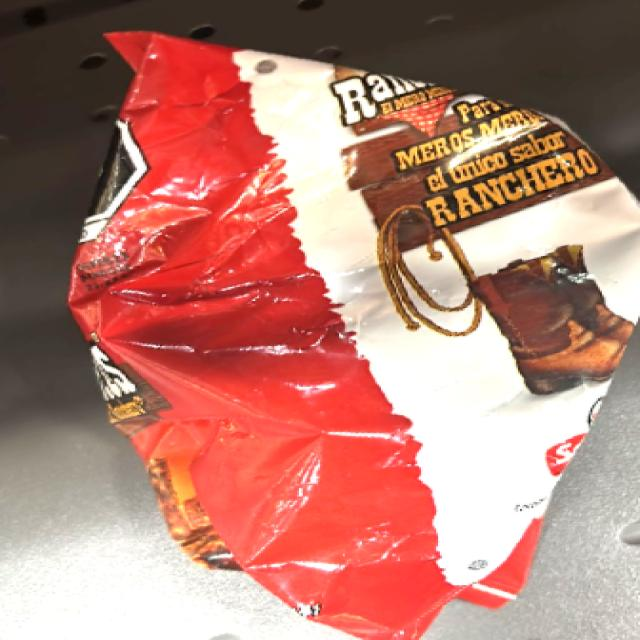productoAtras: (358, 61, 630, 527)
